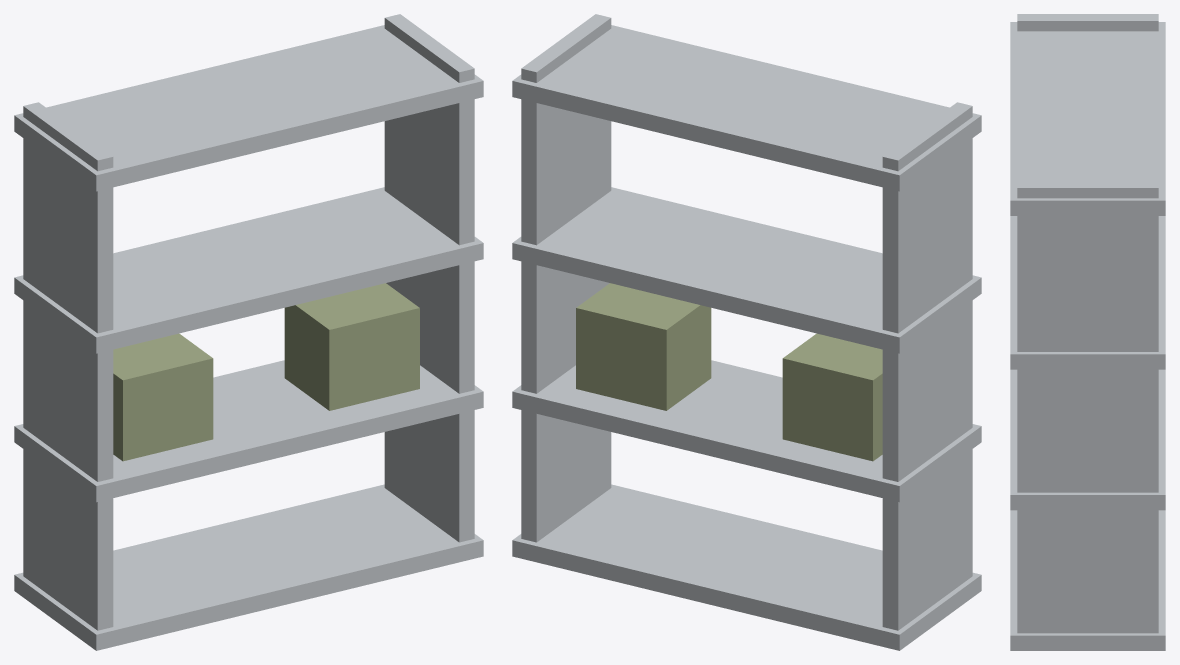
The model's file is mech-hangar-and-battle-frames-parts-rack-9e37461e__26964.glb.
3 views of the same model, side by side, from view 1: azimuth 30°, elevation 25°; view 2: azimuth 150°, elevation 25°; view 3: azimuth 270°, elevation 25° (orthographic). The views are drawn at different scales.
Visible parts, largest first — view 1: parts-rack; view 2: parts-rack; view 3: parts-rack.
Boxes of the visible parts, bbox=[...] form: parts-rack: bbox=[14, 14, 483, 650]; parts-rack: bbox=[512, 14, 981, 650]; parts-rack: bbox=[1010, 14, 1165, 650].
Bounding box in the file's own units: 1.5 × 1.8 × 0.55.
